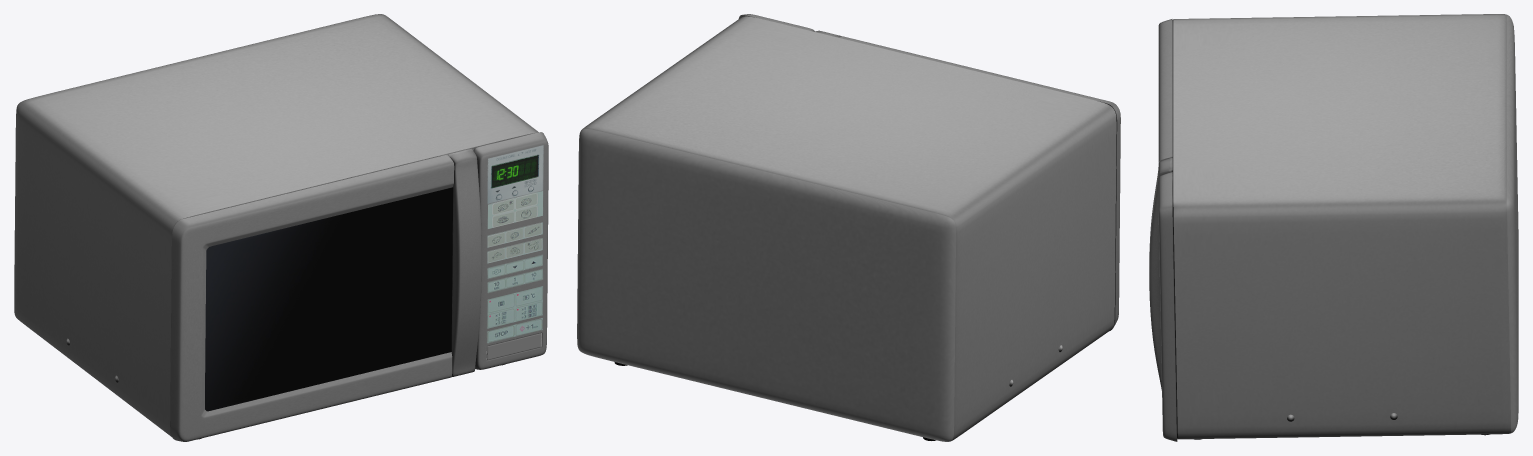
Rendered from micr.gltf.
3 views of the same model, side by side, from view 1: azimuth 30°, elevation 25°; view 2: azimuth 150°, elevation 25°; view 3: azimuth 270°, elevation 25° (orthographic). The views are drawn at different scales.
Visible parts, largest first — view 1: 10122_Microwave_Oven_v1_L3; view 2: 10122_Microwave_Oven_v1_L3; view 3: 10122_Microwave_Oven_v1_L3.
Boxes of the visible parts, left/top/right/bottom form: 10122_Microwave_Oven_v1_L3: left=14, top=14, right=548, bottom=441; 10122_Microwave_Oven_v1_L3: left=577, top=14, right=1120, bottom=441; 10122_Microwave_Oven_v1_L3: left=1149, top=14, right=1518, bottom=441.
Size of the model in its own units: 46.36 by 27.93 by 37.15.
1 material, 1 textured.
